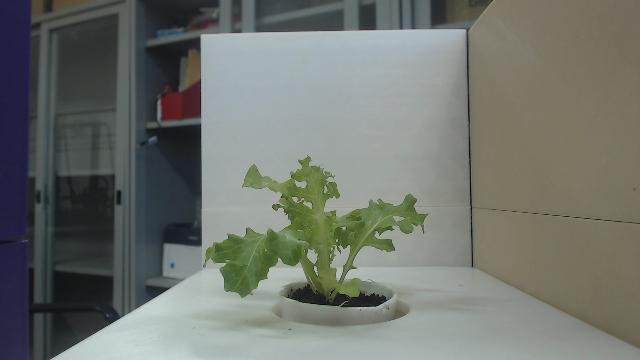Vegetative Stage: (201, 153, 427, 304)
